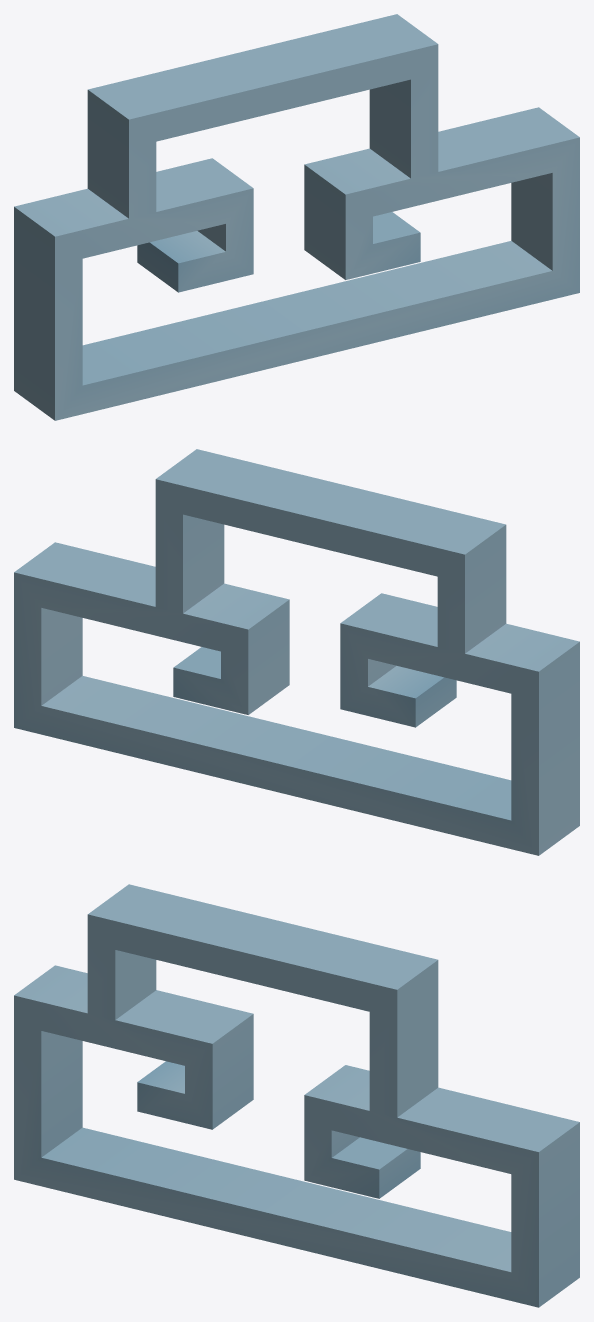
File: nuve-nuvem-3d.glb
3 views of the same model, one above another, from view 1: azimuth 30°, elevation 25°; view 2: azimuth 150°, elevation 25°; view 3: azimuth 330°, elevation 25° (orthographic).
Visible parts, largest first — view 1: geometry_0; view 2: geometry_0; view 3: geometry_0.
Part boxes in pixels (bbox=[...]): geometry_0: bbox=[14, 14, 579, 420]; geometry_0: bbox=[14, 449, 579, 855]; geometry_0: bbox=[14, 884, 579, 1307].
Size of the model in its own units: 339 by 175 by 46.
